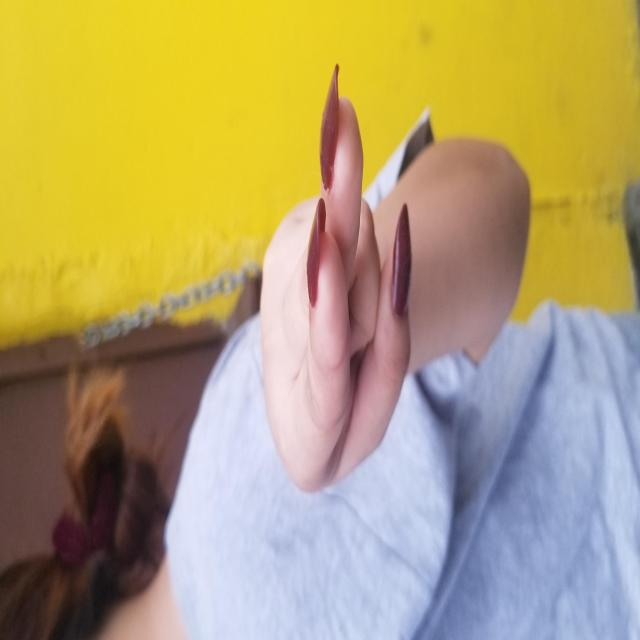N: (150, 257, 572, 413)
